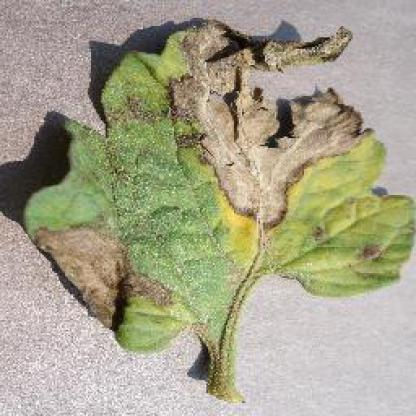bad leaf: (26, 26, 397, 402)
